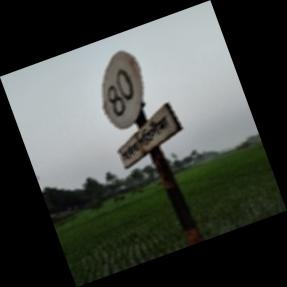Speed-limit: (101, 48, 185, 169)
